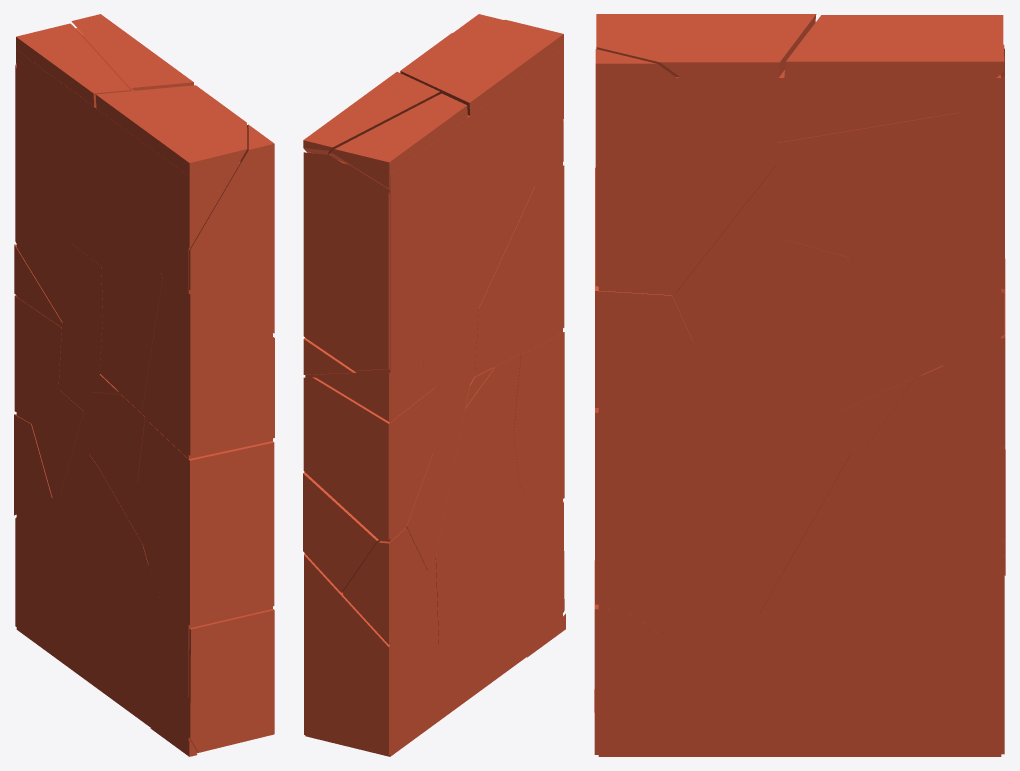
File: Door.fbx
3 views of the same model, side by side, from view 1: azimuth 30°, elevation 25°; view 2: azimuth 150°, elevation 25°; view 3: azimuth 270°, elevation 25° (orthographic). The views are drawn at different scales.
Visible parts, largest first — view 1: Cube, Cube_cell.003_cell.006, Cube_cell.004_cell.002, Cube_cell.004_cell.004, Cube_cell.003_cell.004, Cube_cell.001, Cube_cell.003_cell.005, Cube_cell.003_cell.001, Cube_cell.004_cell.003, Cube_cell.006_cell.005, Cube_cell.005_cell.007, Cube_cell.006_cell.004 (+6 smaller); view 2: Cube, Cube_cell.006_cell.003, Cube_cell.002, Cube_cell.005_cell.007, Cube_cell.003_cell.005, Cube_cell.001, Cube_cell.003_cell.006, Cube_cell.003_cell.001, Cube_cell.006_cell.005, Cube_cell.005_cell.001, Cube_cell.004_cell.003, Cube_cell.005_cell.002 (+6 smaller); view 3: Cube, Cube_cell.004_cell.004, Cube_cell.003_cell, Cube_cell.002, Cube_cell.006_cell.005, Cube_cell.006_cell, Cube_cell.006_cell.003, Cube_cell.004_cell.001, Cube_cell.001, Cube_cell.003_cell.004, Cube_cell.006_cell.001, Cube_cell.004_cell.002 (+6 smaller).
Boxes of the visible parts, x1,y1,x2,y2 form: Cube: [16, 35, 272, 753]; Cube_cell.003_cell.006: [139, 420, 274, 625]; Cube_cell.004_cell.002: [188, 294, 274, 455]; Cube_cell.004_cell.004: [189, 124, 274, 333]; Cube_cell.003_cell.004: [188, 609, 274, 752]; Cube_cell.001: [95, 85, 247, 247]; Cube_cell.003_cell.005: [65, 568, 165, 719]; Cube_cell.003_cell.001: [61, 444, 148, 587]; Cube_cell.004_cell.003: [101, 273, 162, 410]; Cube_cell.006_cell.005: [16, 23, 132, 106]; Cube_cell.005_cell.007: [14, 295, 61, 420]; Cube_cell.006_cell.004: [48, 242, 102, 372]; Cube: [305, 48, 562, 756]; Cube_cell.006_cell.003: [303, 152, 389, 370]; Cube_cell.002: [304, 553, 439, 755]; Cube_cell.005_cell.007: [303, 377, 435, 539]; Cube_cell.003_cell.005: [439, 499, 539, 716]; Cube_cell.001: [400, 19, 563, 119]; Cube_cell.003_cell.006: [513, 332, 564, 515]; Cube_cell.003_cell.001: [435, 473, 522, 643]; Cube_cell.006_cell.005: [330, 93, 467, 189]; Cube_cell.005_cell.001: [343, 528, 426, 644]; Cube_cell.004_cell.003: [475, 187, 536, 373]; Cube_cell.005_cell.002: [303, 472, 378, 592]; Cube: [598, 70, 1001, 756]; Cube_cell.004_cell.004: [595, 49, 773, 290]; Cube_cell.003_cell: [626, 434, 847, 634]; Cube_cell.002: [847, 464, 1004, 754]; Cube_cell.006_cell.005: [777, 15, 1003, 252]; Cube_cell.006_cell: [778, 31, 1004, 140]; Cube_cell.006_cell.003: [852, 48, 1004, 289]; Cube_cell.004_cell.001: [675, 166, 798, 390]; Cube_cell.001: [596, 14, 816, 143]; Cube_cell.003_cell.004: [594, 560, 707, 754]; Cube_cell.006_cell.001: [853, 262, 1004, 389]; Cube_cell.004_cell.002: [595, 167, 707, 407].
Size of the model in its own units: 30.46 by 200 by 107.
